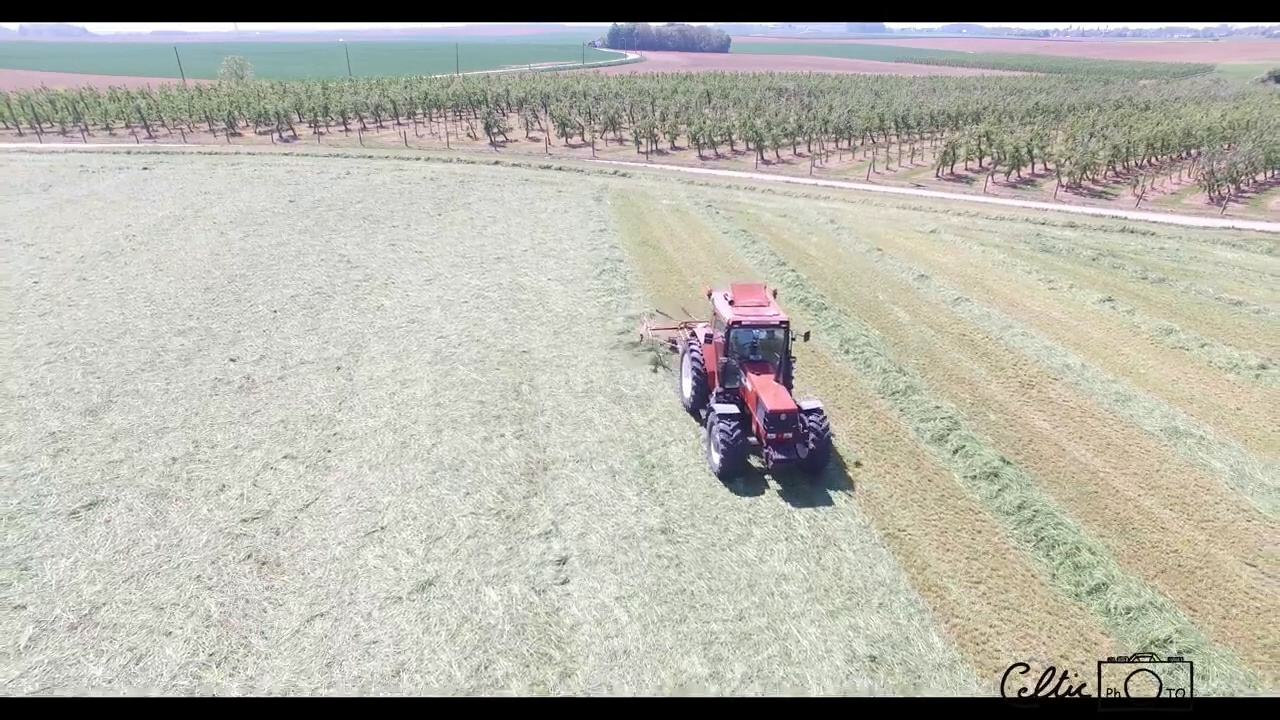traktor: (681, 276, 835, 474)
